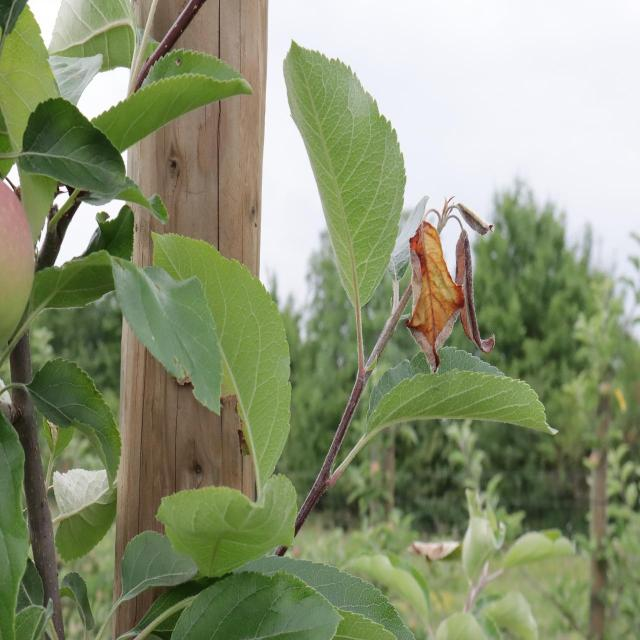-FireBlight-: (390, 203, 500, 366)
